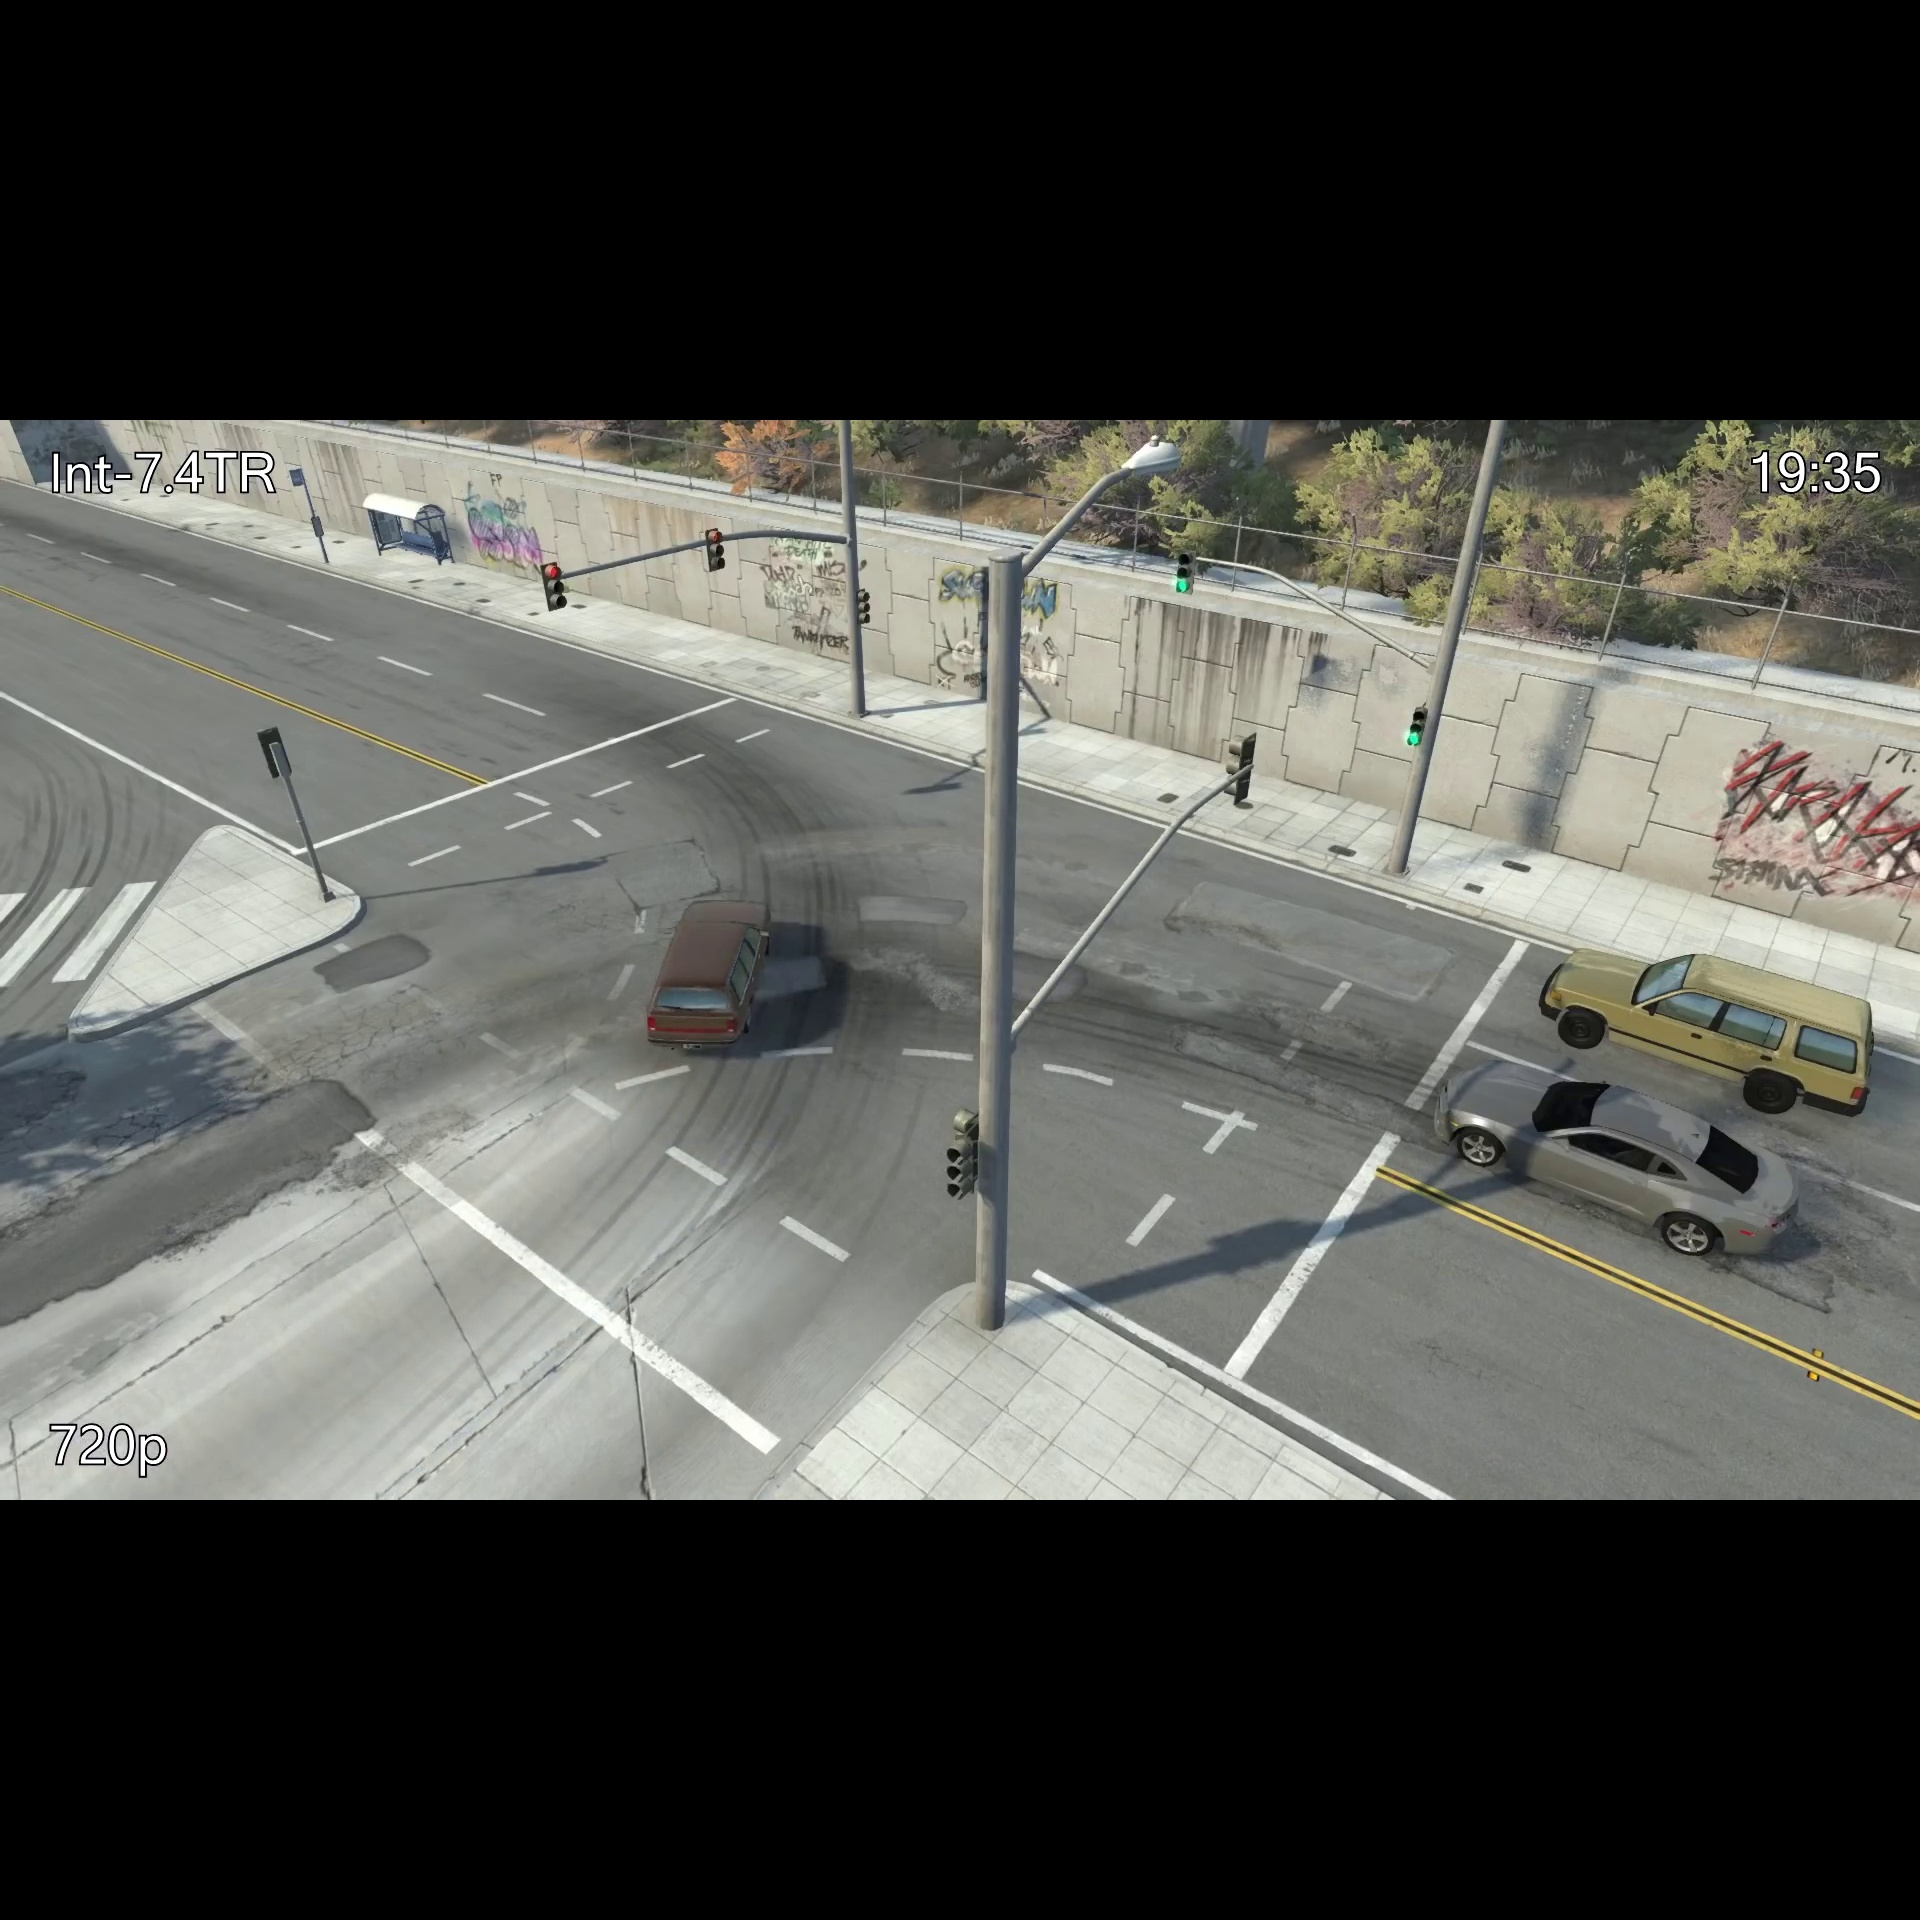vehicle: (1422, 1044, 1809, 1269), (1533, 935, 1881, 1124), (636, 891, 781, 1064)
